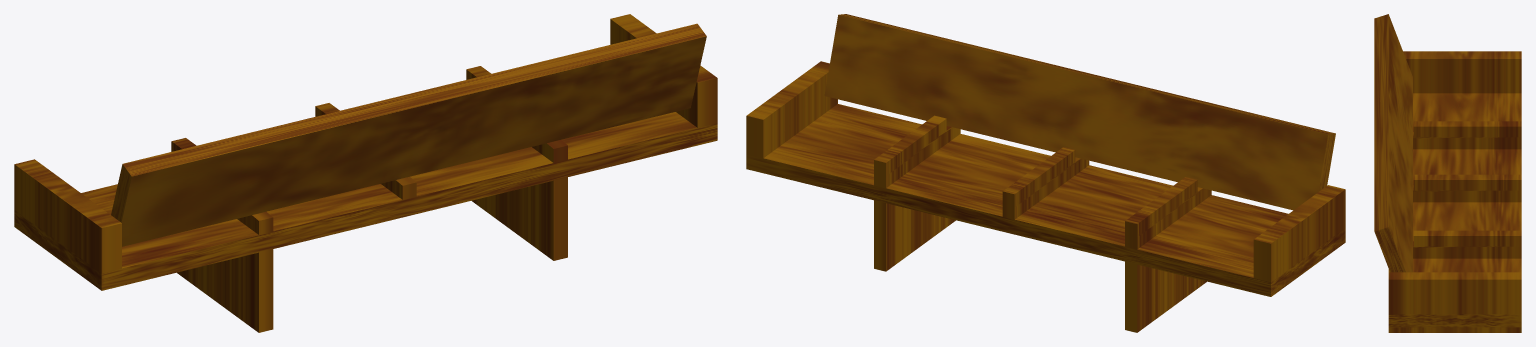
The model's file is bench_MTAsubway.fbx.
3 renders of one model, left to right at view 1: azimuth 30°, elevation 25°; view 2: azimuth 150°, elevation 25°; view 3: azimuth 270°, elevation 25°, orthographic. The views are drawn at different scales.
Parts seen in each view (by area): view 1: Bench; view 2: Bench; view 3: Bench.
Part boxes in pixels (x1,y1,x2,y2): Bench: (14,14,717,332); Bench: (746,14,1345,332); Bench: (1374,14,1521,332).
Size of the model in its own units: 1465 by 460 by 399.
